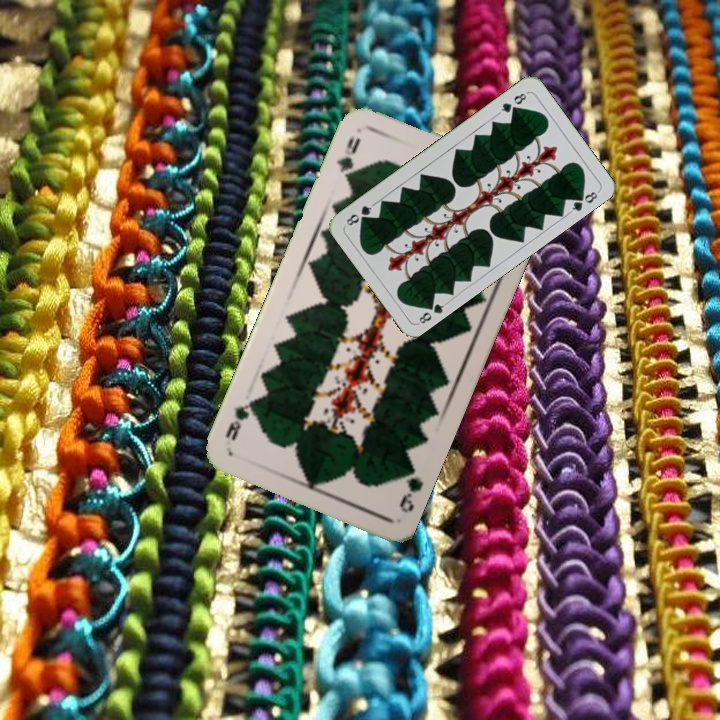G8: (413, 297, 450, 327), (495, 88, 530, 117)
G9: (395, 460, 426, 516), (332, 132, 363, 184)
